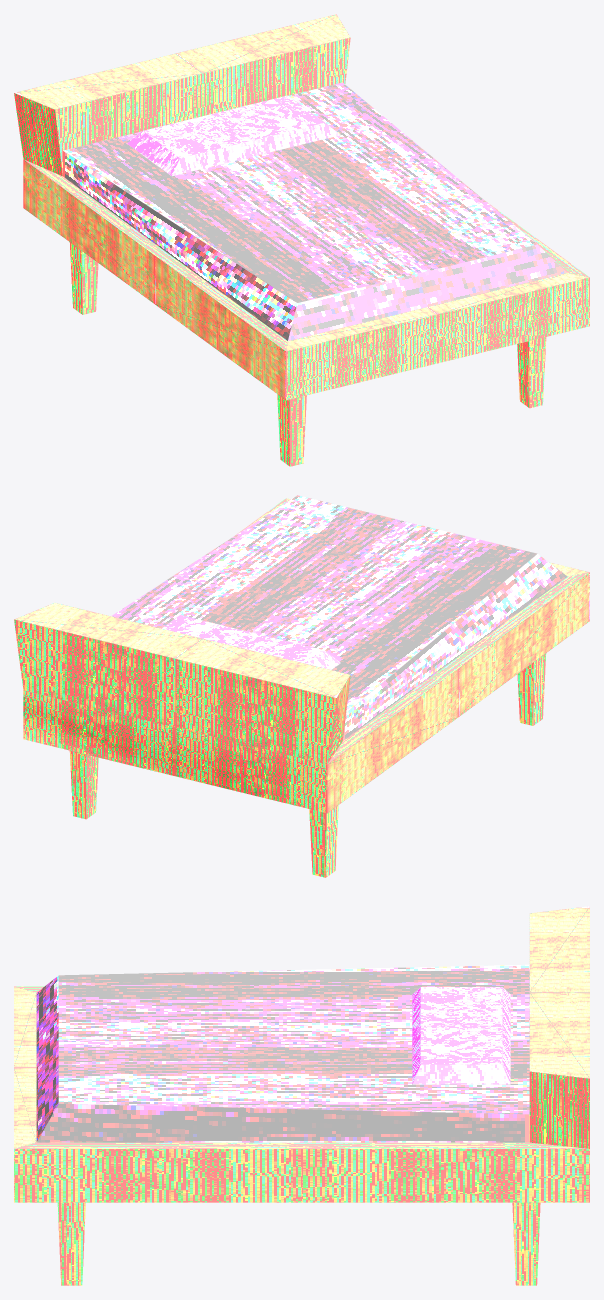
Rendered from urn_bed.glb.
The picture shows the model from 3 angles, top to bottom: view 1: azimuth 30°, elevation 25°; view 2: azimuth 150°, elevation 25°; view 3: azimuth 270°, elevation 25°; orthographic projection. The views are drawn at different scales.
Parts seen in each view (by area): view 1: urn_bed; view 2: urn_bed; view 3: urn_bed.
Part boxes in pixels (left/top/right/bottom): urn_bed: left=14, top=14, right=589, bottom=466; urn_bed: left=14, top=495, right=589, bottom=877; urn_bed: left=14, top=906, right=589, bottom=1285.
Bounding box in the file's own units: 1.89 × 1.15 × 2.66.
